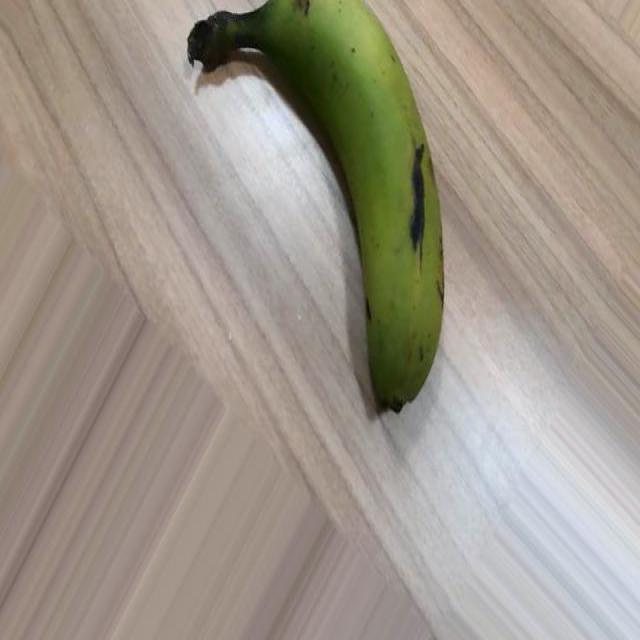Unripe: (185, 2, 446, 416)
